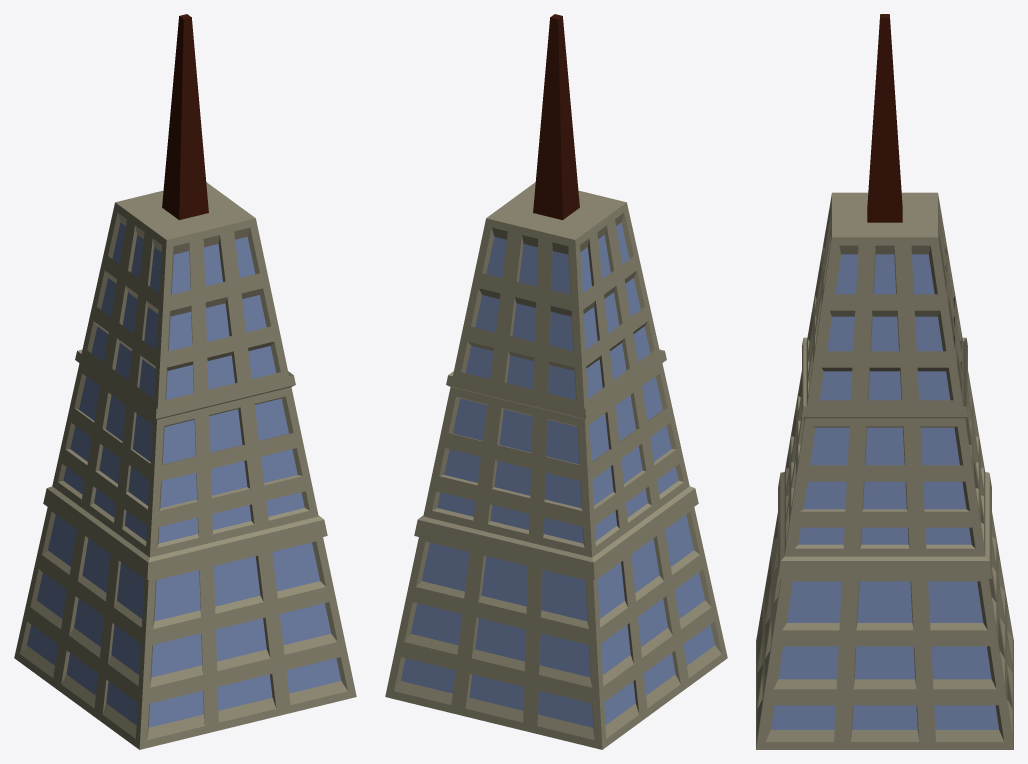
File: Götdelen1.fbx
The picture shows the model from 3 angles, left to right: view 1: azimuth 30°, elevation 25°; view 2: azimuth 150°, elevation 25°; view 3: azimuth 270°, elevation 25°; orthographic projection. The views are drawn at different scales.
Parts seen in each view (by area): view 1: Wall, Cam, Uç; view 2: Wall, Cam, Uç; view 3: Wall, Cam, Uç.
Part boxes in pixels (x1,y1,x2,y2): Wall: (14, 182, 356, 749); Cam: (27, 222, 340, 727); Uç: (162, 14, 208, 219); Wall: (385, 182, 727, 749); Cam: (401, 222, 714, 727); Uç: (533, 14, 579, 219); Wall: (756, 192, 1013, 749); Cam: (770, 254, 999, 729); Uç: (867, 14, 902, 222).
Bounding box in the file's own units: 200 × 582 × 200.
